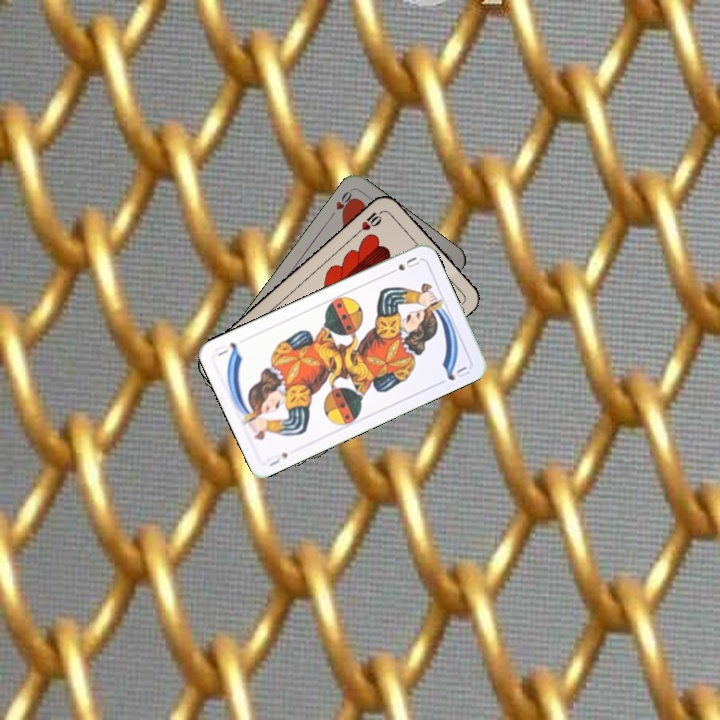H10: (351, 207, 384, 238)
HO: (326, 186, 358, 221)
SU: (384, 252, 422, 277), (262, 448, 291, 469)
